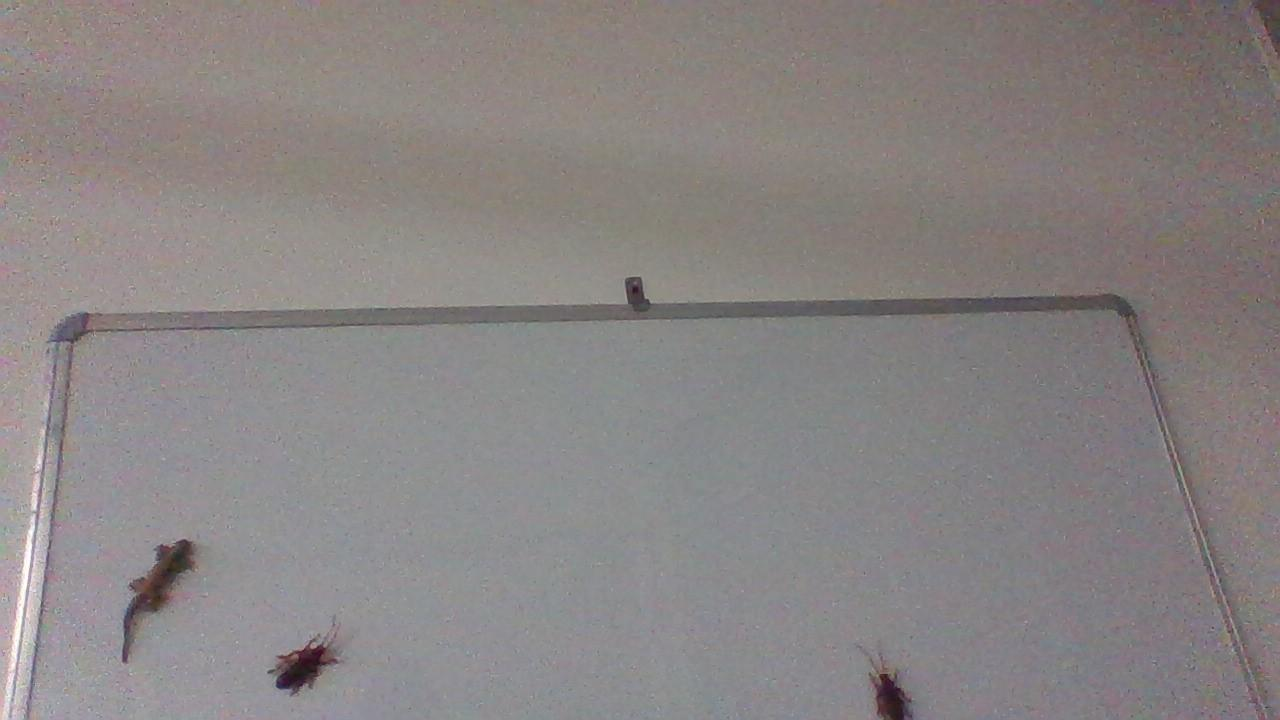cockroach: (262, 612, 346, 694), (850, 635, 925, 720)
lizard: (120, 522, 203, 672)
